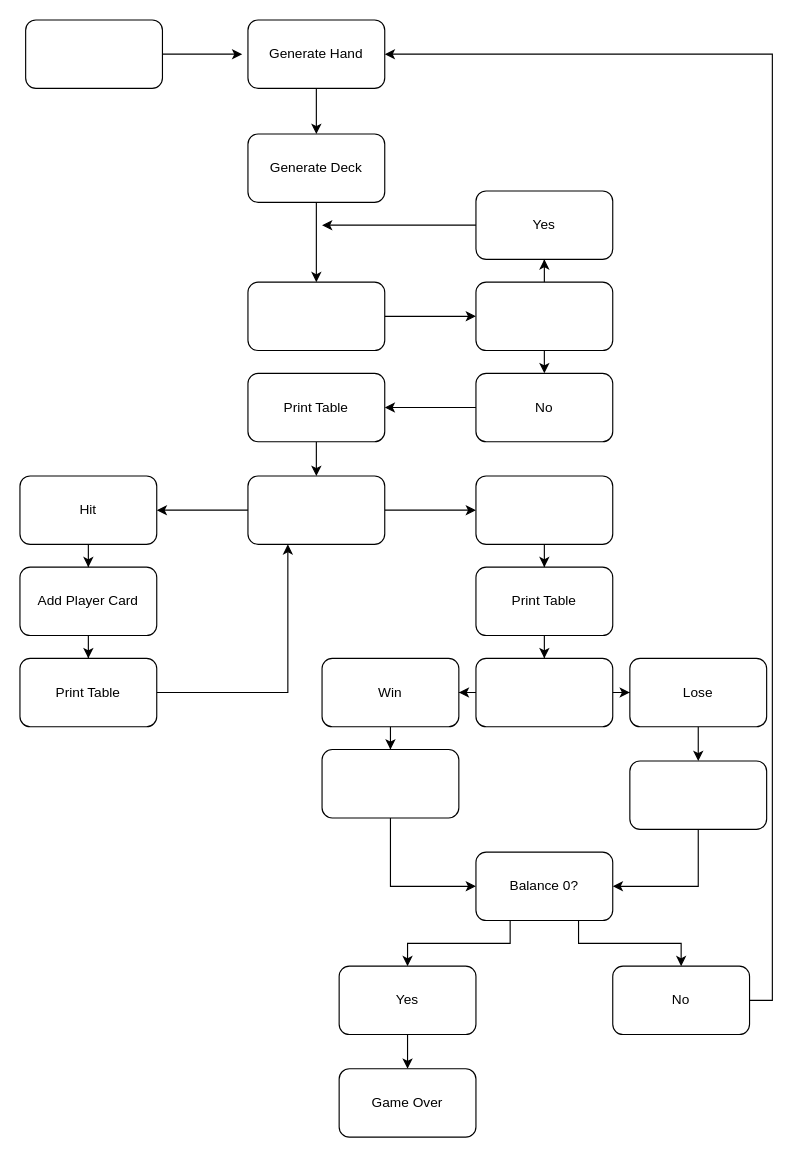
Some shapes in this 801 by 1157 pixel diagram are drawn without their labels. Each missing label, with the box of its shape:
Bet Exceed Balance?: (475, 281, 613, 351)
Game Start: (25, 19, 162, 88)
Hit/Stay: (247, 475, 385, 544)
Minus Balance: (629, 760, 767, 829)
Plus Balance: (321, 748, 459, 818)
Stay: (475, 475, 613, 544)
Take Bet: (247, 281, 385, 351)
Win / Lose: (475, 657, 613, 727)
